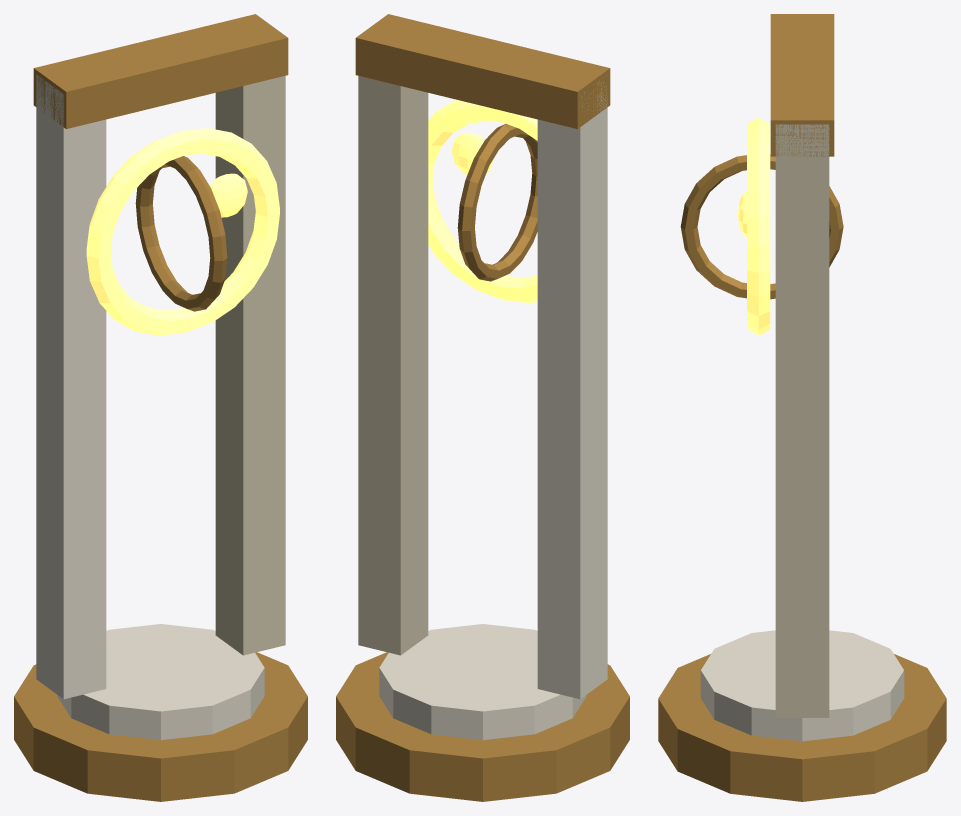
File: runtime.glb
The picture shows the model from 3 angles, left to right: view 1: azimuth 30°, elevation 25°; view 2: azimuth 150°, elevation 25°; view 3: azimuth 270°, elevation 25°; orthographic projection.
Parts seen in each view (by area): view 1: aetherion-zodiac-stele-v08_left_pier_nocol, aetherion-zodiac-stele-v08_right_pier_nocol, aetherion-zodiac-stele-v08_foot_nocol, aetherion-zodiac-stele-v08_plinth_nocol, aetherion-zodiac-stele-v08_lintel_nocol, aetherion-zodiac-stele-v08_primary_meridian_nocol, aetherion-zodiac-stele-v08_cross_meridian_nocol, aetherion-zodiac-stele-v08_sun_nocol; view 2: aetherion-zodiac-stele-v08_left_pier_nocol, aetherion-zodiac-stele-v08_right_pier_nocol, aetherion-zodiac-stele-v08_foot_nocol, aetherion-zodiac-stele-v08_plinth_nocol, aetherion-zodiac-stele-v08_lintel_nocol, aetherion-zodiac-stele-v08_primary_meridian_nocol, aetherion-zodiac-stele-v08_cross_meridian_nocol, aetherion-zodiac-stele-v08_sun_nocol; view 3: aetherion-zodiac-stele-v08_right_pier_nocol, aetherion-zodiac-stele-v08_foot_nocol, aetherion-zodiac-stele-v08_plinth_nocol, aetherion-zodiac-stele-v08_lintel_nocol, aetherion-zodiac-stele-v08_primary_meridian_nocol, aetherion-zodiac-stele-v08_cross_meridian_nocol.
Boxes of the visible parts, x1,y1,x2,y2 form: aetherion-zodiac-stele-v08_left_pier_nocol: [36, 74, 106, 699]; aetherion-zodiac-stele-v08_right_pier_nocol: [215, 75, 285, 655]; aetherion-zodiac-stele-v08_foot_nocol: [14, 652, 307, 801]; aetherion-zodiac-stele-v08_plinth_nocol: [57, 624, 264, 739]; aetherion-zodiac-stele-v08_lintel_nocol: [33, 14, 288, 128]; aetherion-zodiac-stele-v08_primary_meridian_nocol: [86, 128, 279, 335]; aetherion-zodiac-stele-v08_cross_meridian_nocol: [135, 156, 227, 311]; aetherion-zodiac-stele-v08_sun_nocol: [210, 173, 247, 217]; aetherion-zodiac-stele-v08_left_pier_nocol: [537, 81, 607, 699]; aetherion-zodiac-stele-v08_right_pier_nocol: [358, 75, 428, 655]; aetherion-zodiac-stele-v08_foot_nocol: [336, 652, 629, 801]; aetherion-zodiac-stele-v08_plinth_nocol: [379, 624, 586, 739]; aetherion-zodiac-stele-v08_lintel_nocol: [355, 14, 610, 128]; aetherion-zodiac-stele-v08_primary_meridian_nocol: [428, 100, 537, 303]; aetherion-zodiac-stele-v08_cross_meridian_nocol: [457, 124, 537, 281]; aetherion-zodiac-stele-v08_sun_nocol: [452, 133, 493, 174]; aetherion-zodiac-stele-v08_right_pier_nocol: [775, 124, 829, 717]; aetherion-zodiac-stele-v08_foot_nocol: [658, 654, 946, 801]; aetherion-zodiac-stele-v08_plinth_nocol: [700, 630, 904, 741]; aetherion-zodiac-stele-v08_lintel_nocol: [770, 14, 834, 156]; aetherion-zodiac-stele-v08_primary_meridian_nocol: [747, 117, 770, 335]; aetherion-zodiac-stele-v08_cross_meridian_nocol: [680, 154, 843, 299].
Bounding box in the file's own units: 3.43 × 8.85 × 3.43.
